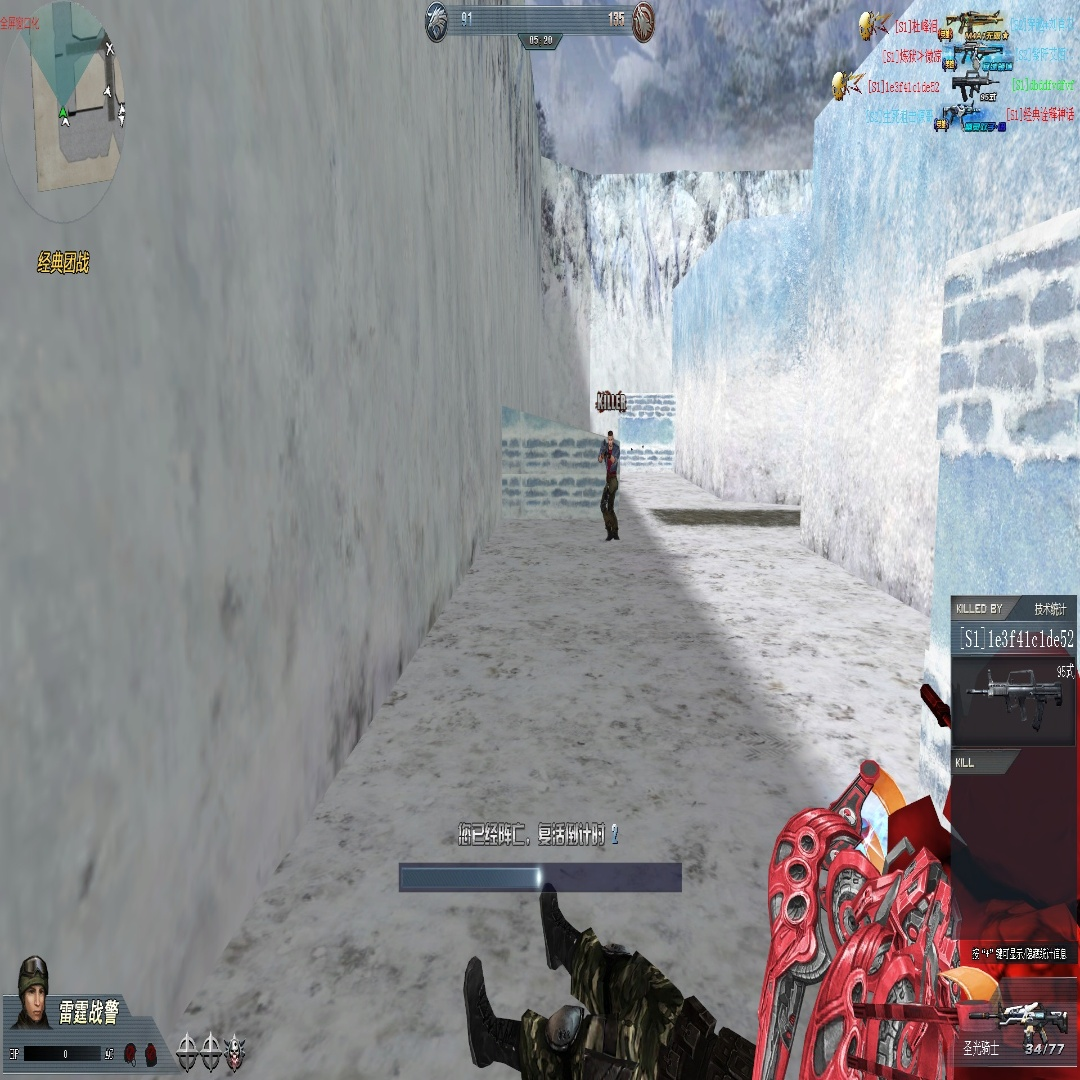t: (596, 428, 620, 541)
